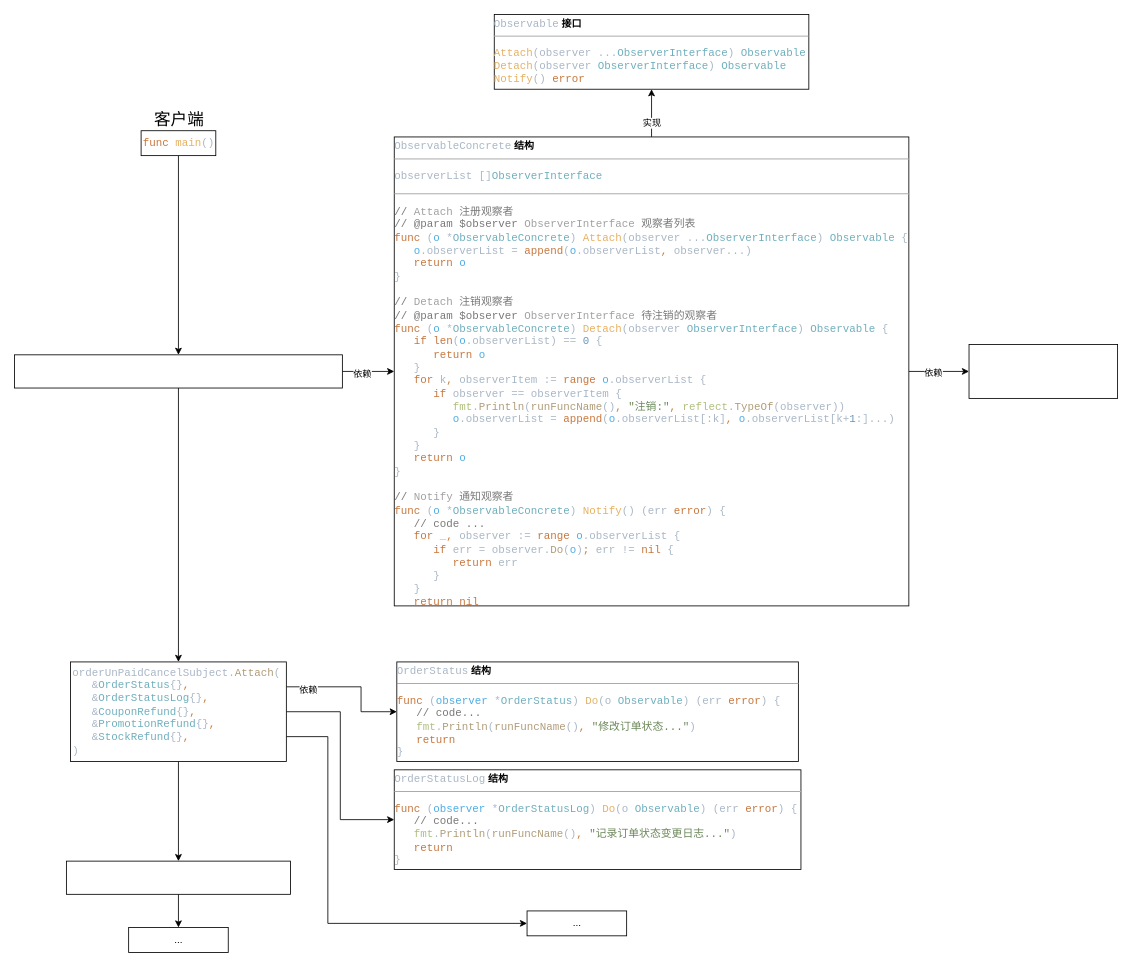
Image size: 1132x967. Some labels were removed from this diagram. Here are the shapes that lost their labels. From the top down, the centre of each, then its label:
At point (178, 371): "// 创建 未支付取消订单 “主题” orderUnPaidCancelSubject := & ObservableConcrete {}".
At point (1043, 371): "ObserverInterface 接口 Do (o Observable ) error".
At point (178, 877): "orderUnPaidCancelSubject. Notify ()".
